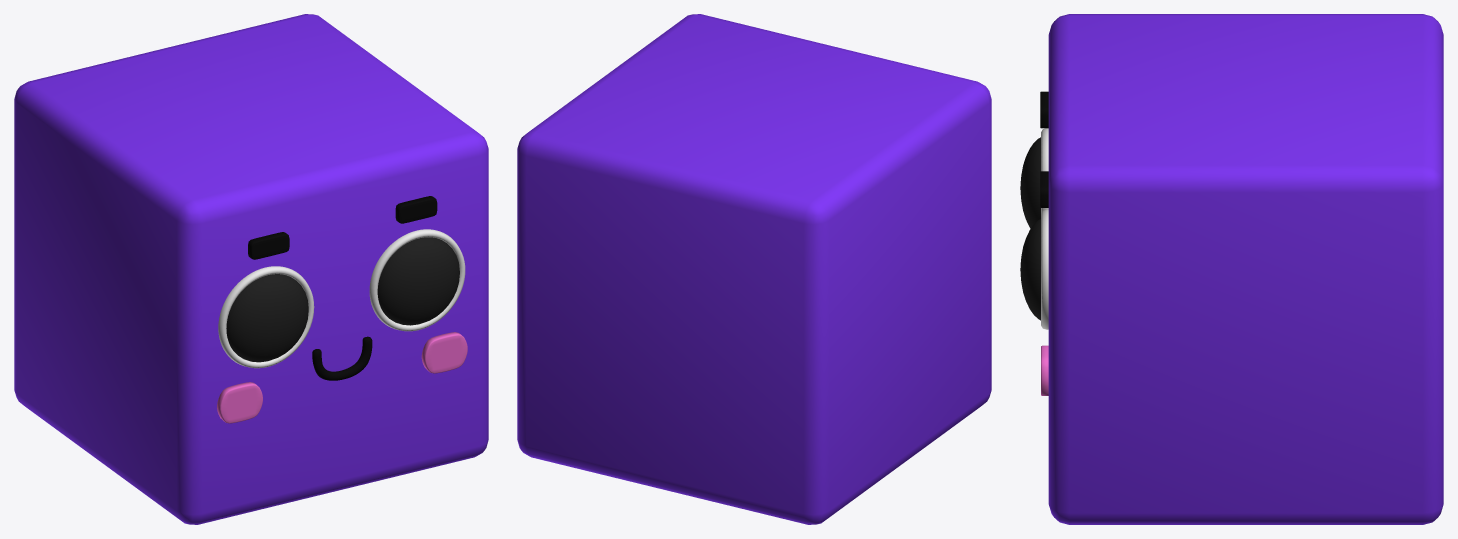
The model's file is cubo.fbx.
The picture shows the model from 3 angles, left to right: view 1: azimuth 30°, elevation 25°; view 2: azimuth 150°, elevation 25°; view 3: azimuth 270°, elevation 25°; orthographic projection. The views are drawn at different scales.
Visible parts, largest first — view 1: cubo; view 2: cubo; view 3: cubo.
Part boxes in pixels (x1,y1,x2,y2): cubo: (14,14,488,524); cubo: (517,14,991,524); cubo: (1020,14,1443,524).
Size of the model in its own units: 201 by 201 by 216.
